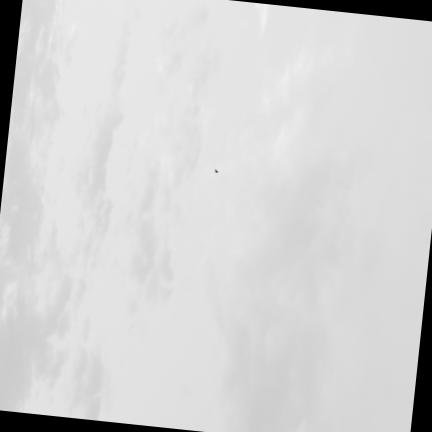Shahed: (214, 170, 217, 173)
